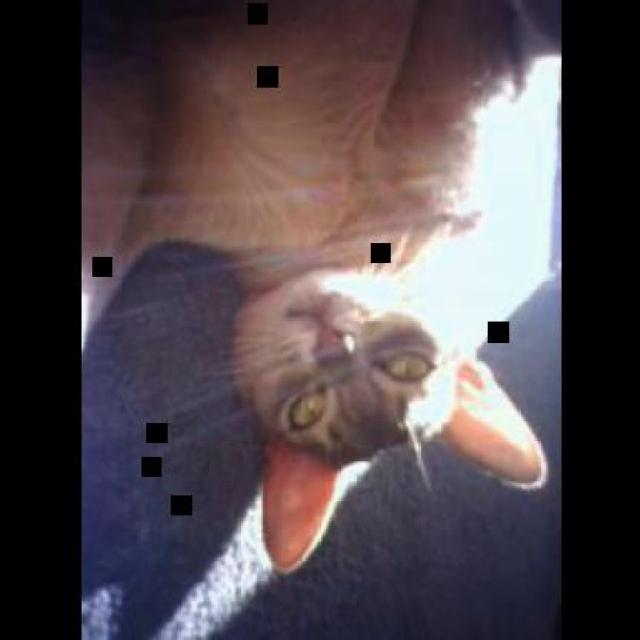unauthorized: (79, 0, 558, 638)
